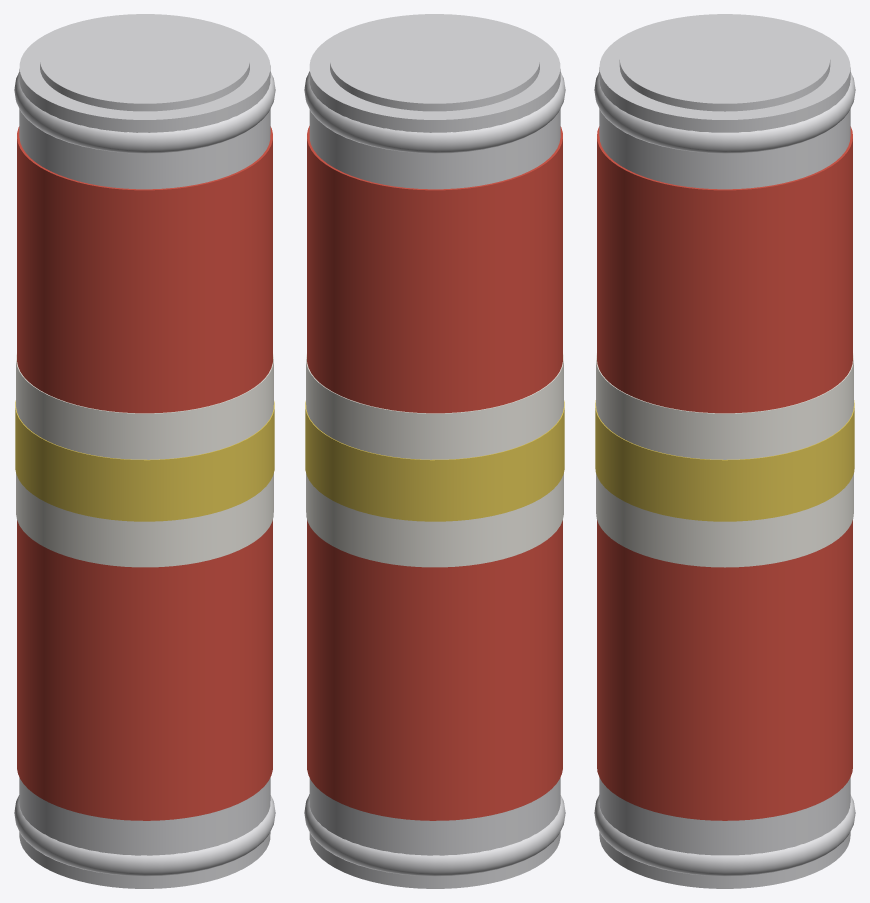
Rendered from soup_can.glb.
3 renders of one model, left to right at view 1: azimuth 30°, elevation 25°; view 2: azimuth 150°, elevation 25°; view 3: azimuth 270°, elevation 25°, orthographic.
Visible parts, largest first — view 1: Cylinder.006, Cylinder.005, Cylinder.007, Cylinder.009, Cylinder.008, Torus.003, Torus.002; view 2: Cylinder.006, Cylinder.005, Cylinder.007, Cylinder.009, Cylinder.008, Torus.003, Torus.002; view 3: Cylinder.006, Cylinder.005, Cylinder.007, Cylinder.009, Cylinder.008, Torus.003, Torus.002.
Boxes of the visible parts, x1,y1,x2,y2 form: Cylinder.006: [17, 126, 272, 820]; Cylinder.005: [19, 14, 270, 888]; Cylinder.007: [16, 354, 273, 567]; Cylinder.009: [40, 15, 249, 111]; Cylinder.008: [15, 400, 274, 521]; Torus.003: [14, 72, 275, 153]; Torus.002: [14, 795, 275, 876]; Cylinder.006: [307, 126, 562, 820]; Cylinder.005: [309, 14, 560, 888]; Cylinder.007: [306, 354, 563, 567]; Cylinder.009: [330, 15, 539, 111]; Cylinder.008: [305, 400, 564, 521]; Torus.003: [304, 71, 565, 153]; Torus.002: [304, 794, 565, 876]; Cylinder.006: [597, 126, 852, 820]; Cylinder.005: [599, 14, 850, 888]; Cylinder.007: [596, 353, 853, 567]; Cylinder.009: [619, 15, 830, 111]; Cylinder.008: [595, 400, 854, 521]; Torus.003: [594, 72, 855, 153]; Torus.002: [594, 795, 855, 876].
Size of the model in its own units: 1.54 by 5.05 by 1.54.
